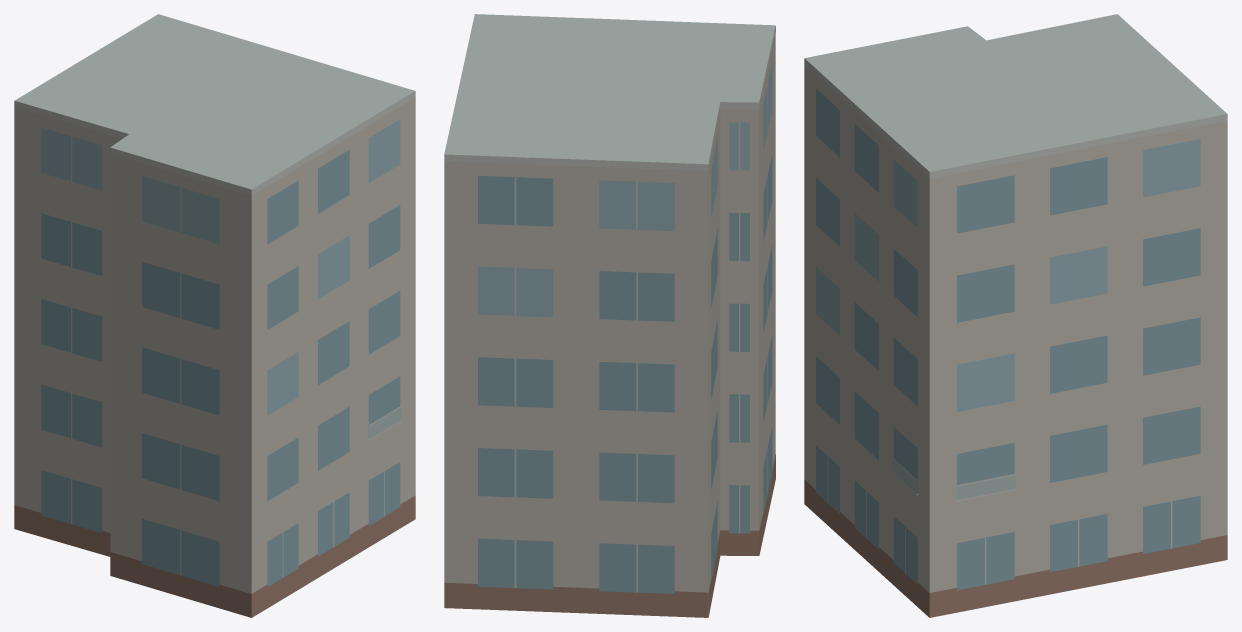
Rendered from survey-upis-32544342.glb.
3 renders of one model, left to right at view 1: azimuth 30°, elevation 25°; view 2: azimuth 150°, elevation 25°; view 3: azimuth 270°, elevation 25°, orthographic. The views are drawn at different scales.
Visible parts, largest first — view 1: survey-upis-32544342.tmp; view 2: survey-upis-32544342.tmp; view 3: survey-upis-32544342.tmp.
Part boxes in pixels (<box>): survey-upis-32544342.tmp: <box>14,14,415,617</box>; survey-upis-32544342.tmp: <box>444,14,775,617</box>; survey-upis-32544342.tmp: <box>804,14,1227,617</box>.
Size of the model in its own units: 12.54 by 16.5 by 14.2.
